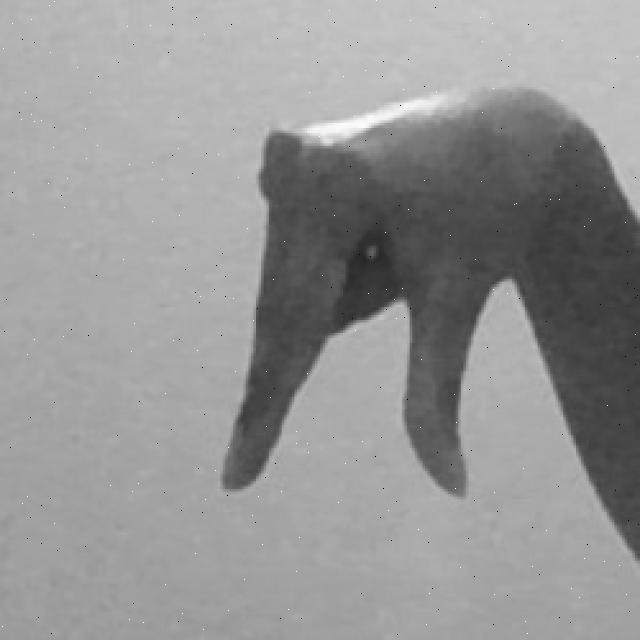Q: (217, 78, 640, 576)
